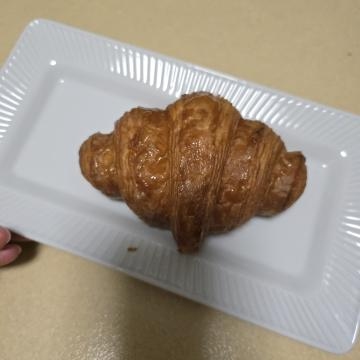croissant: (84, 46, 262, 292)
